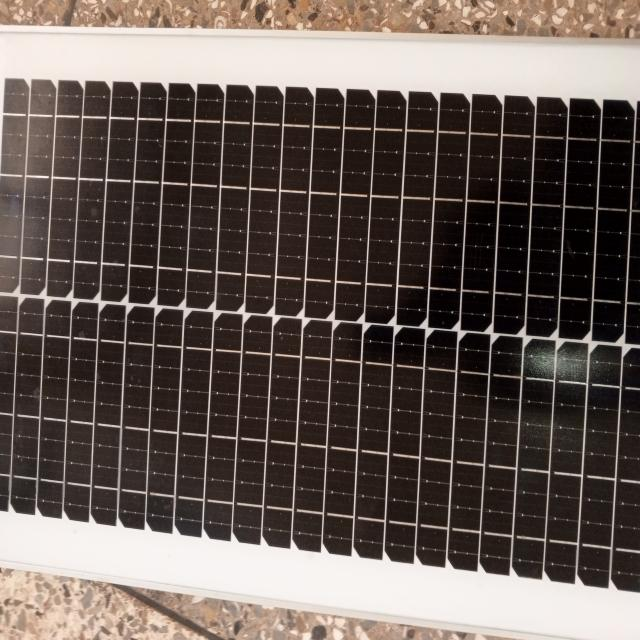Clean: (4, 48, 640, 560)
